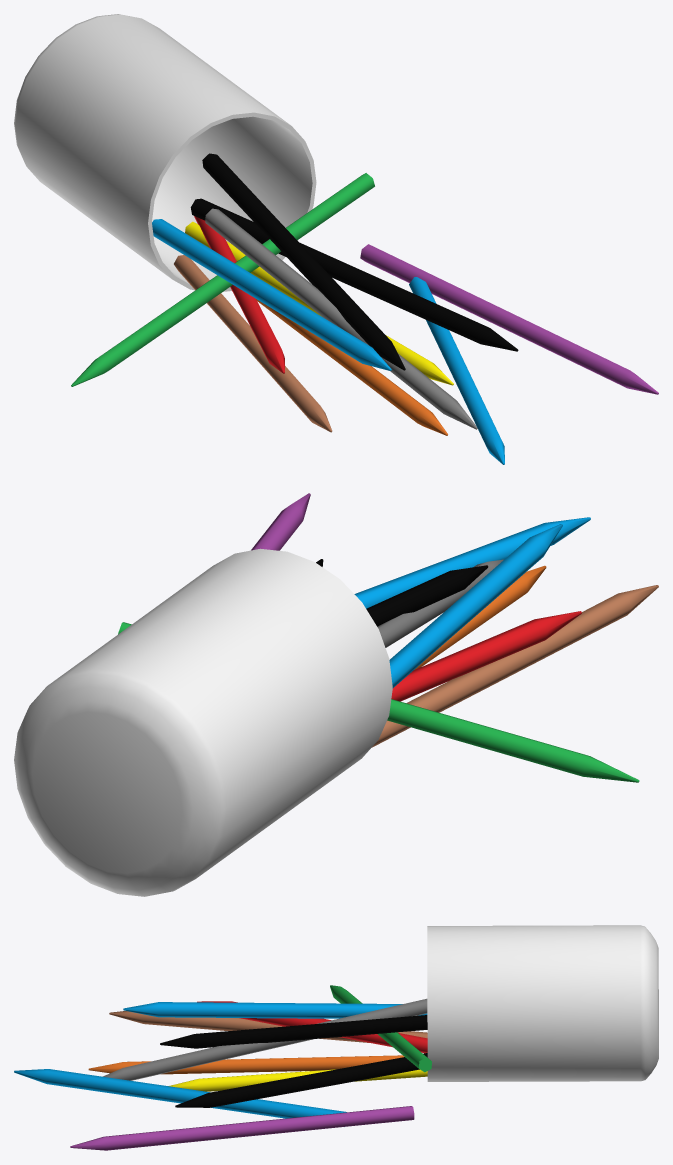
Rendered from Tasa2.obj.
The picture shows the model from 3 angles, top to bottom: view 1: azimuth 30°, elevation 25°; view 2: azimuth 150°, elevation 25°; view 3: azimuth 270°, elevation 25°; orthographic projection. The views are drawn at different scales.
Visible parts, largest first — view 1: Cup; view 2: Cup; view 3: Cup.
Boxes of the visible parts, left/top/right/bottom form: Cup: left=14, top=14, right=658, bottom=464; Cup: left=14, top=493, right=658, bottom=896; Cup: left=14, top=925, right=658, bottom=1150.
Bounding box in the file's own units: 0.7129 × 0.2834 × 1.16.
Materials: 12 (12 with a texture image).
